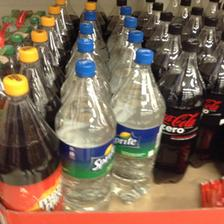Soda: (55, 58, 115, 210), (0, 73, 62, 210), (113, 48, 165, 204), (157, 38, 205, 182)
